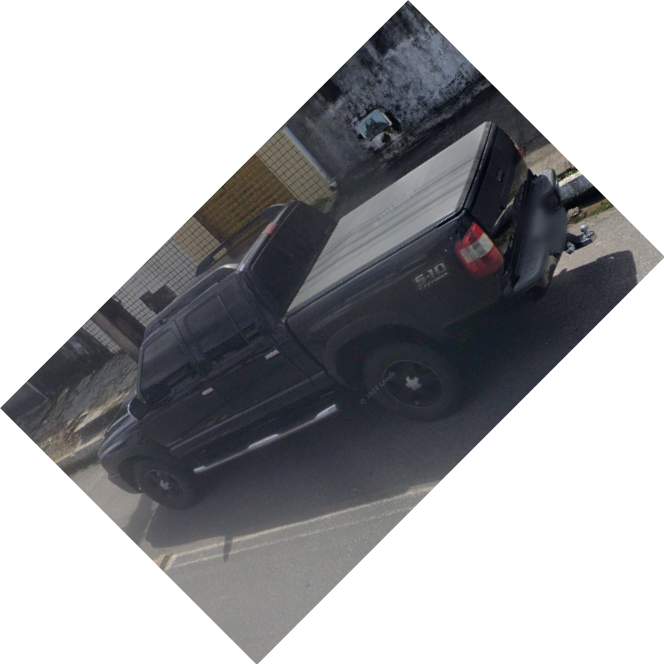car: (98, 121, 572, 512)
